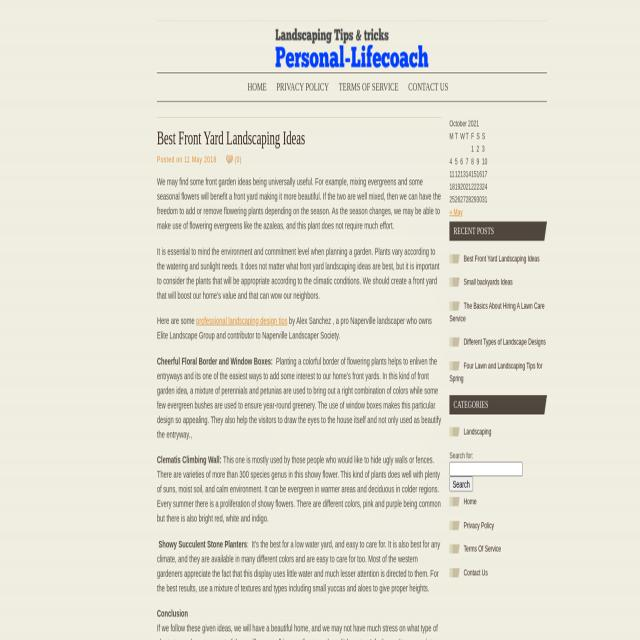button: (275, 27, 429, 69)
field: (450, 461, 522, 477), (449, 477, 473, 491)
